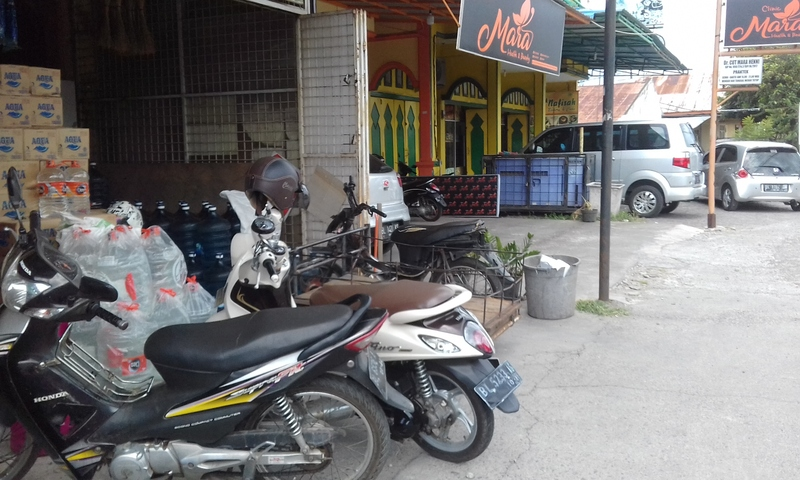becak barang: (287, 171, 525, 368)
car: (504, 118, 705, 220), (700, 136, 800, 219)
motorcycle: (1, 167, 396, 477), (203, 190, 522, 465)
